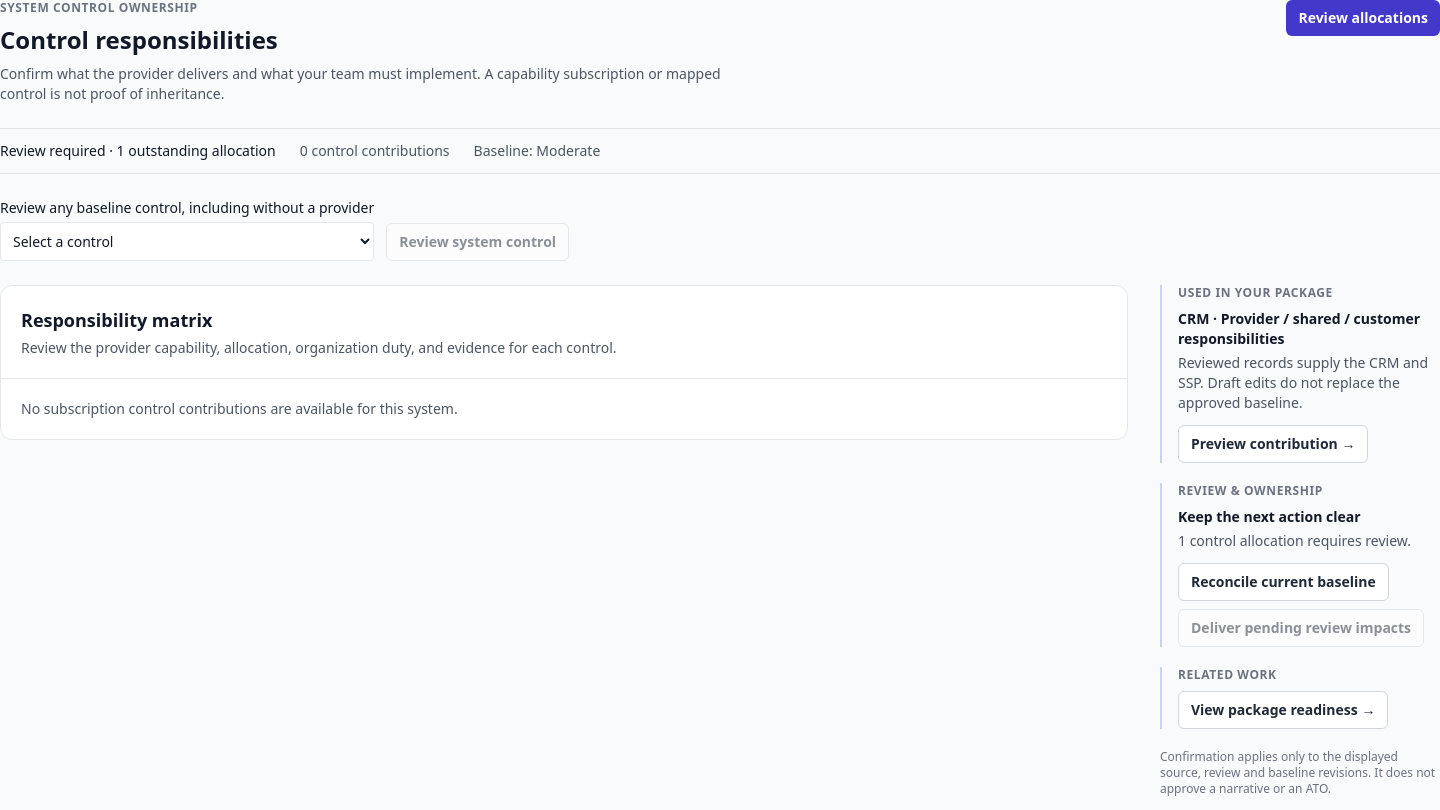
it: keeps system-only gaps visible and opens review without inventing a provider row
Expected: the text "Review required · 1 outstanding allocation" is shown, [0,141,276,161]
Click the button "Review allocations" at (1363, 18), box [1286,0,1439,36]
(page scrolled)
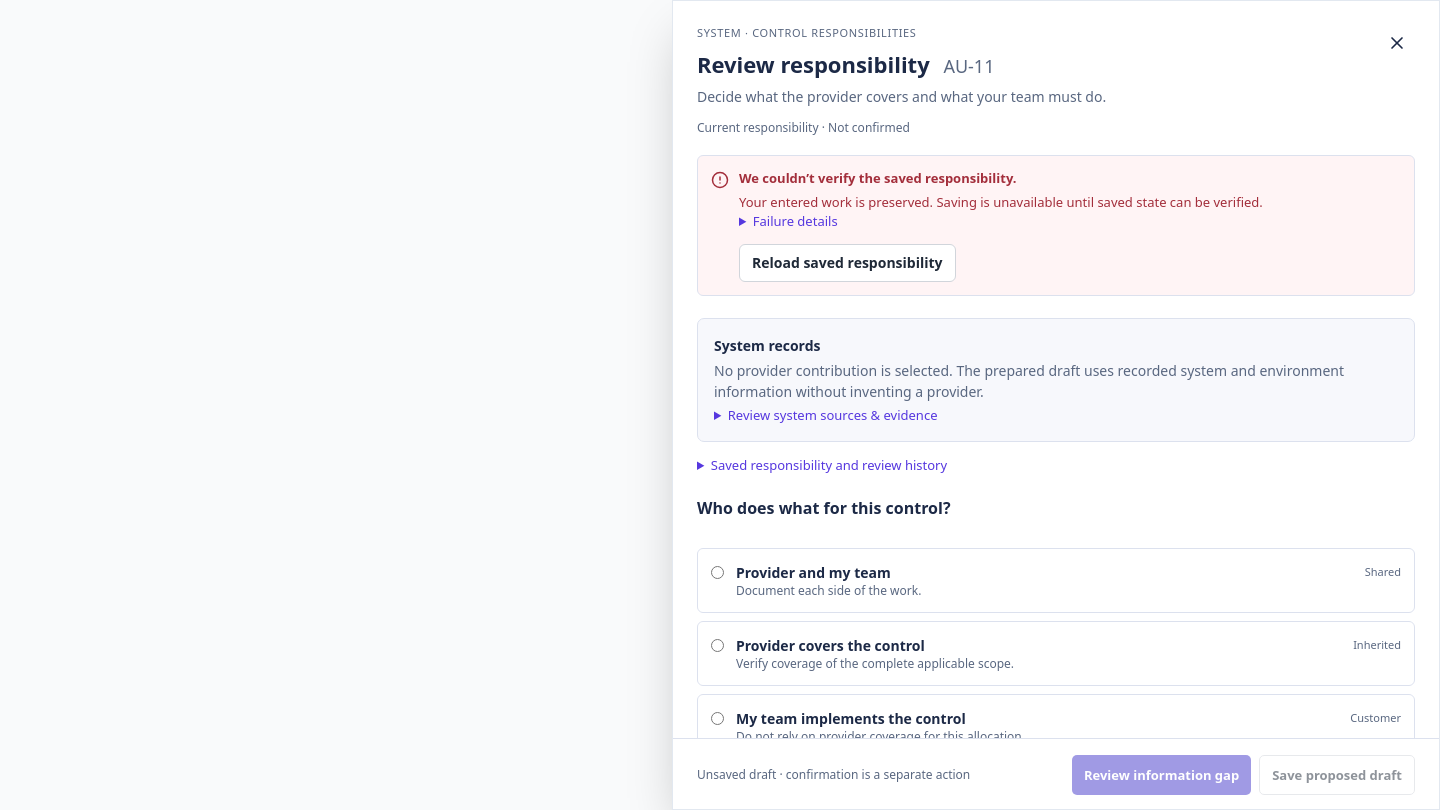
Expected: the dialog "Review responsibility AU-11" is shown, [672,0,1439,809]
